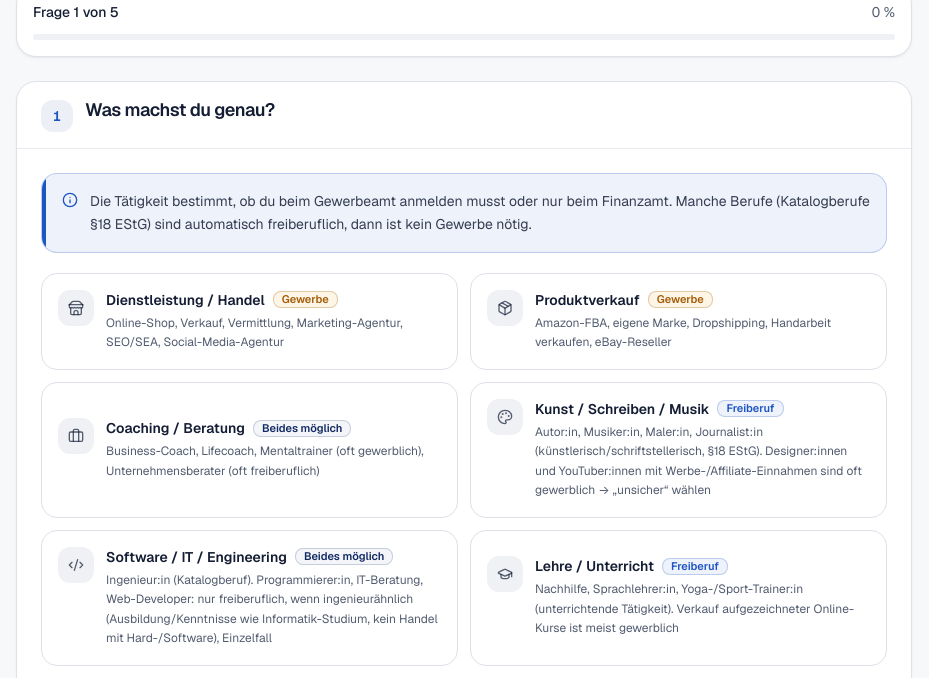
Test: GewerbeCheck — Step 1 Tätigkeits-Auswahl › Klick auf Tätigkeit aktiviert 'Weiter'-Button
(page scrolled)
Click the text "Dienstleistung / Handel".
click(185, 300)  # box [106,290,265,310]
(page scrolled)
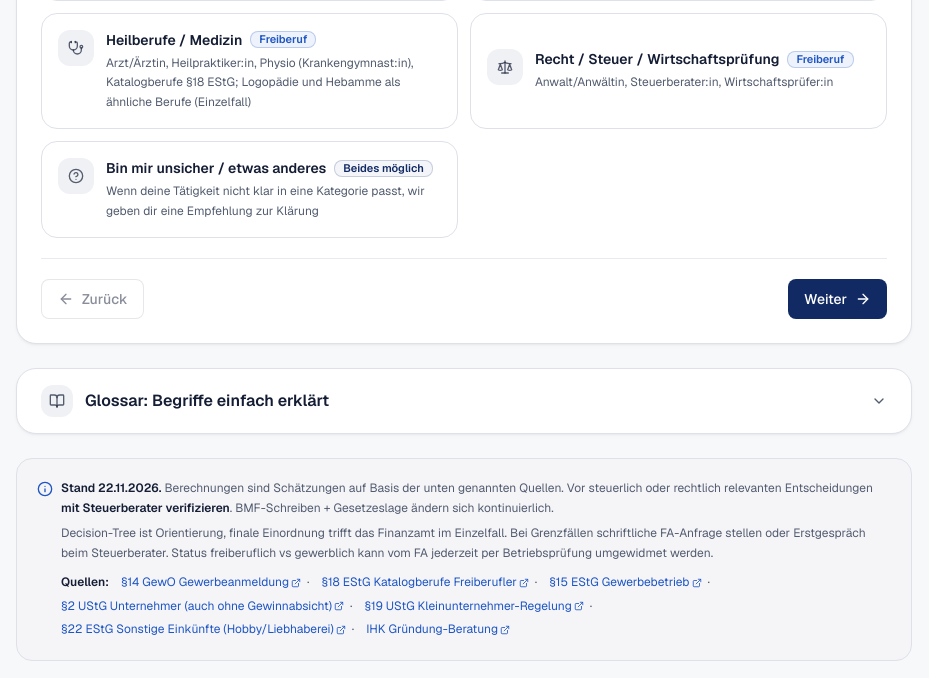
Result: the button "Weiter" is enabled at [788,279,887,319]
